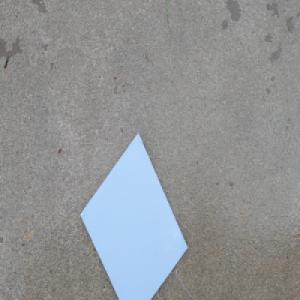PaintChip: (80, 133, 189, 300)
